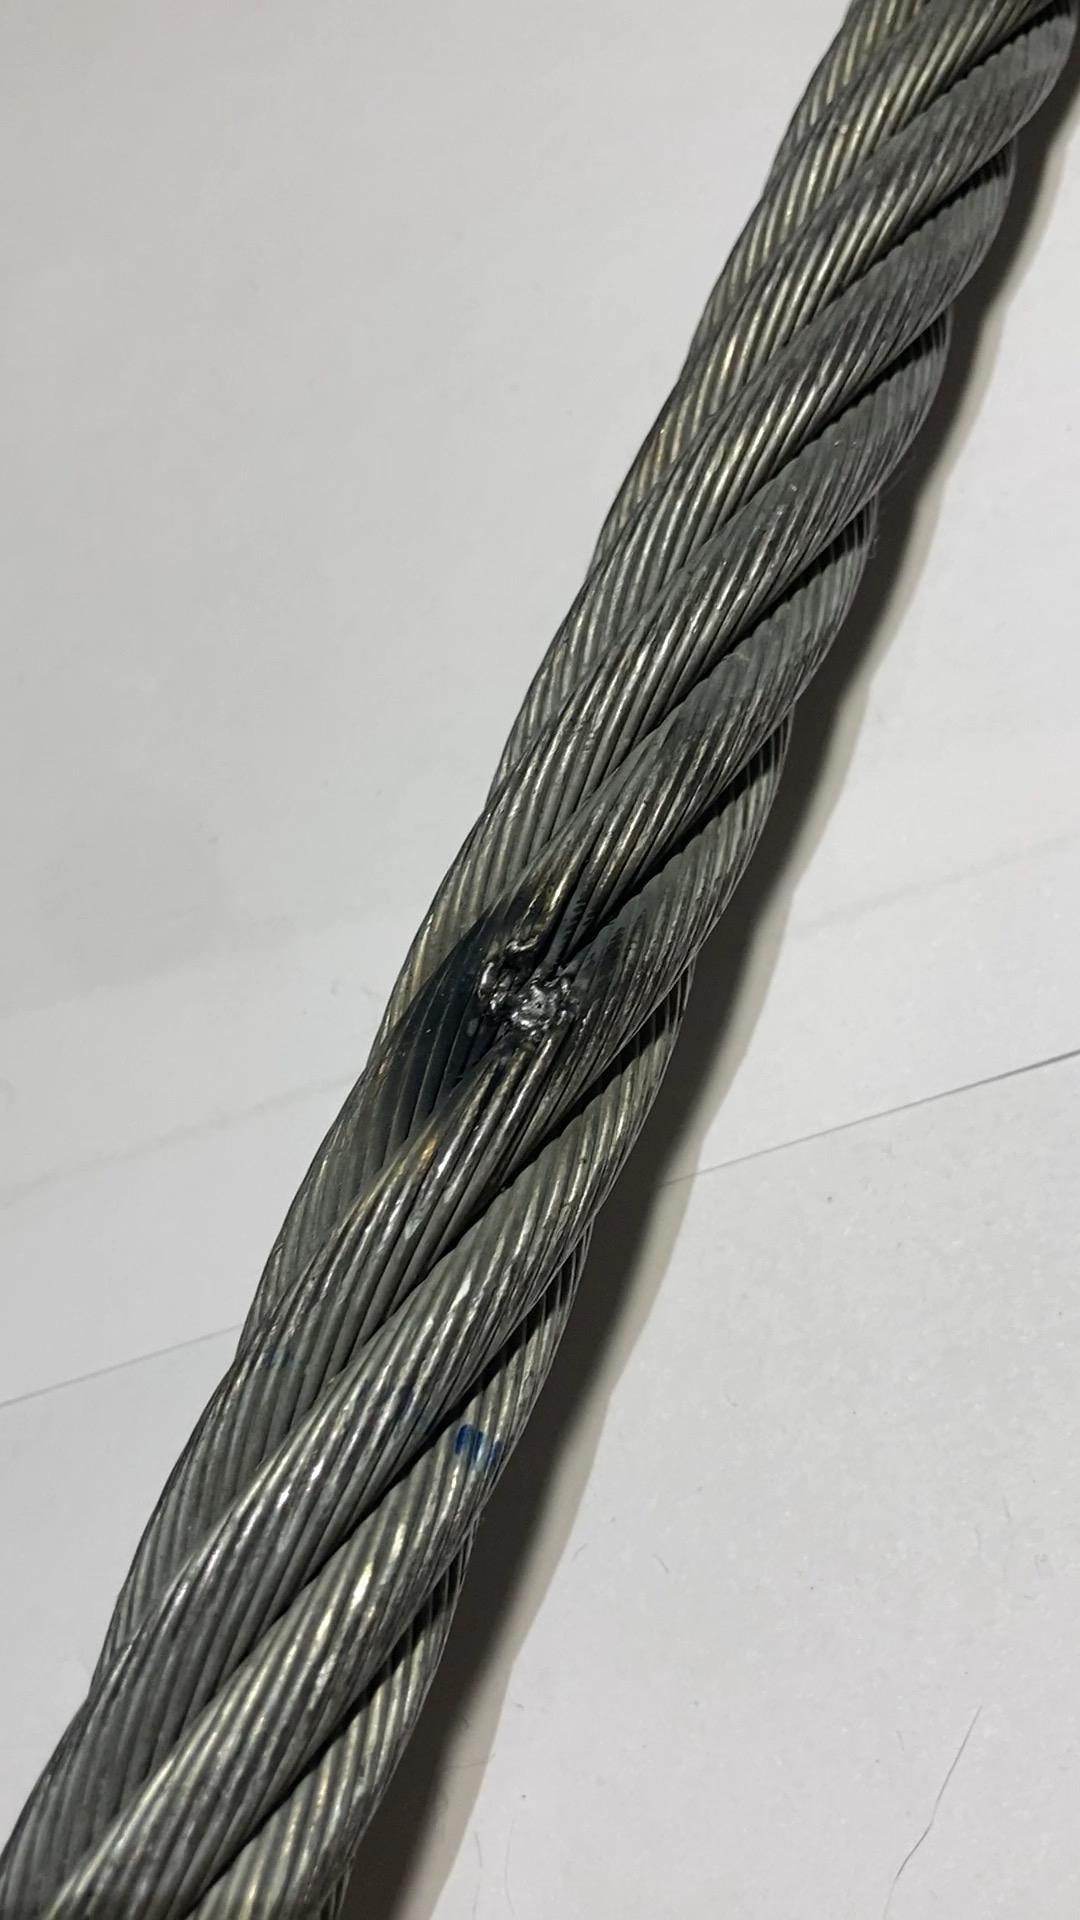thunderbolt: (452, 895, 626, 1069)
